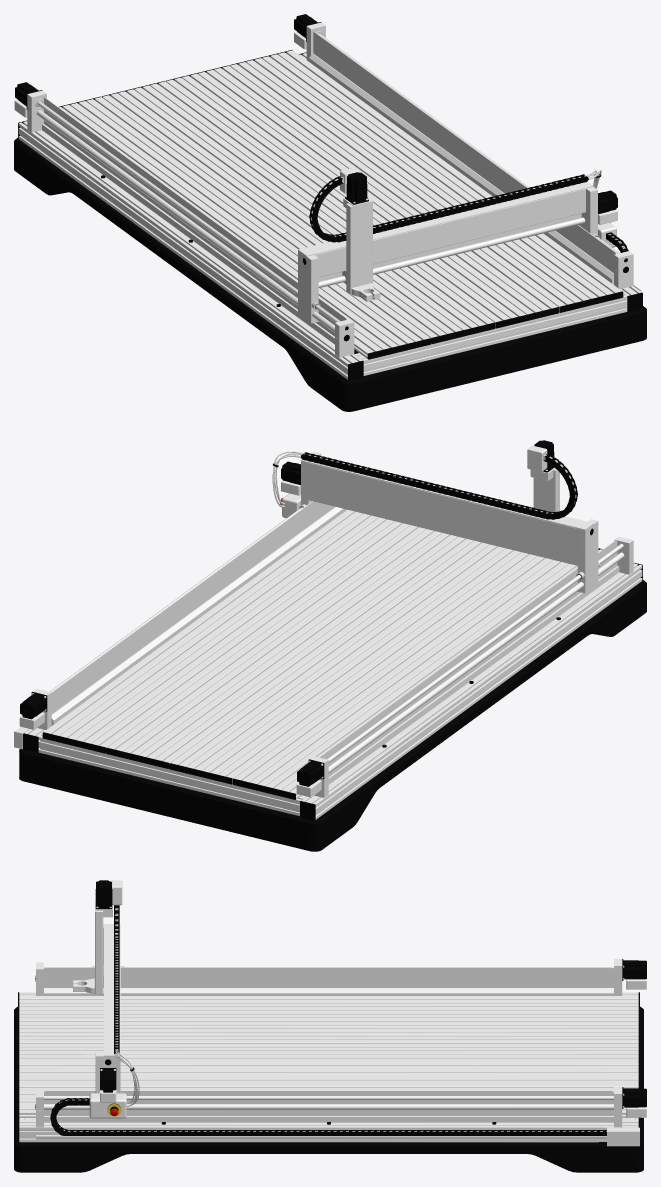
The model's file is cnc.glb.
3 renders of one model, top to bottom at view 1: azimuth 30°, elevation 25°; view 2: azimuth 150°, elevation 25°; view 3: azimuth 270°, elevation 25°, orthographic. The views are drawn at different scales.
Parts seen in each view (by area): view 1: Brep_Material_0; view 2: Brep_Material_0; view 3: Brep_Material_0.
Boxes of the visible parts, x1,y1,x2,y2 form: Brep_Material_0: [14, 14, 646, 411]; Brep_Material_0: [14, 440, 646, 851]; Brep_Material_0: [14, 880, 646, 1172].
Bounding box in the file's own units: 7.73 × 4.35 × 14.14.
Materials: 1 (1 with a texture image).
